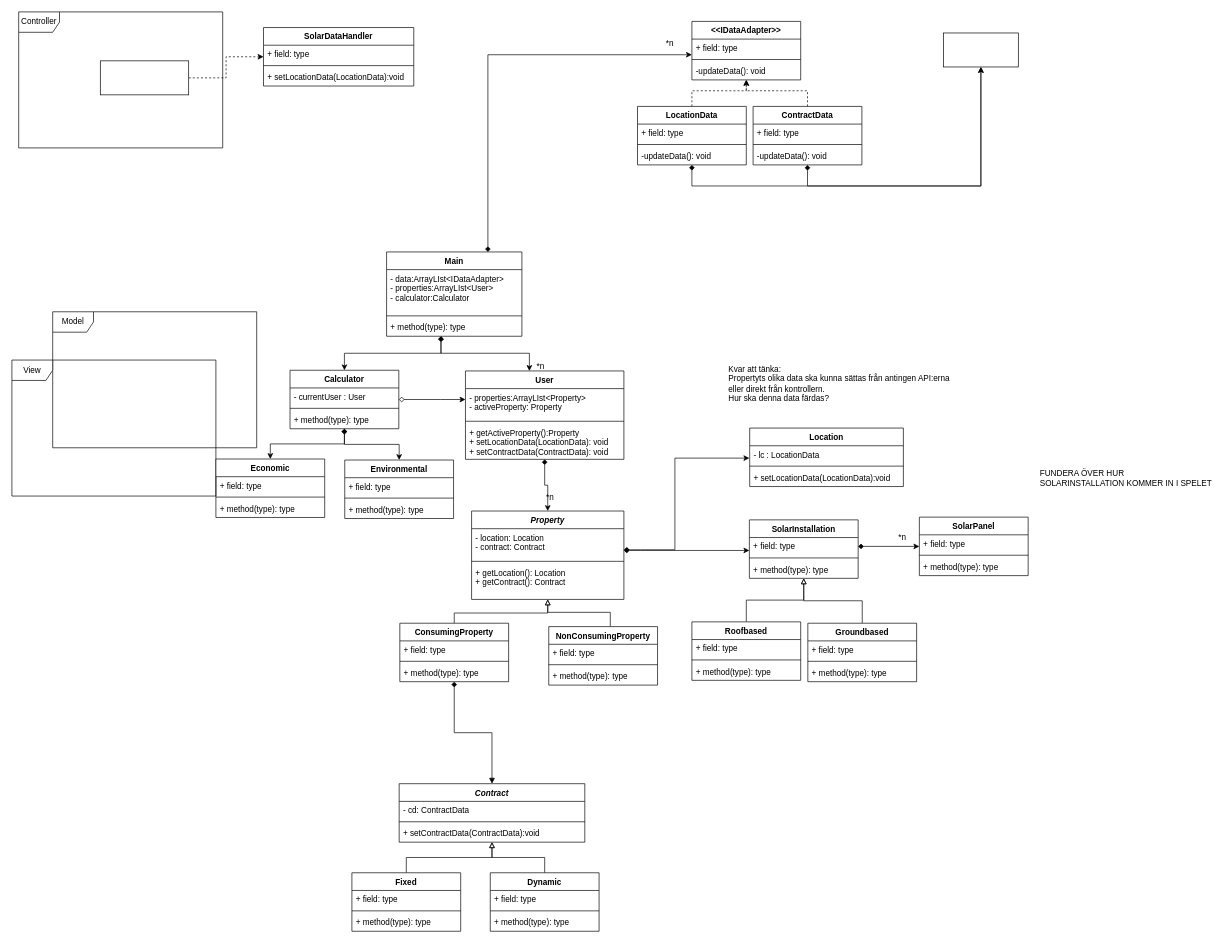
This 1227x945 diagram has some shape labels left out. The centre of each missing label's shape, as x and y in pixels:
"API" goes at point 980,49.
"CONTROLLERTHING" goes at point 144,77.
